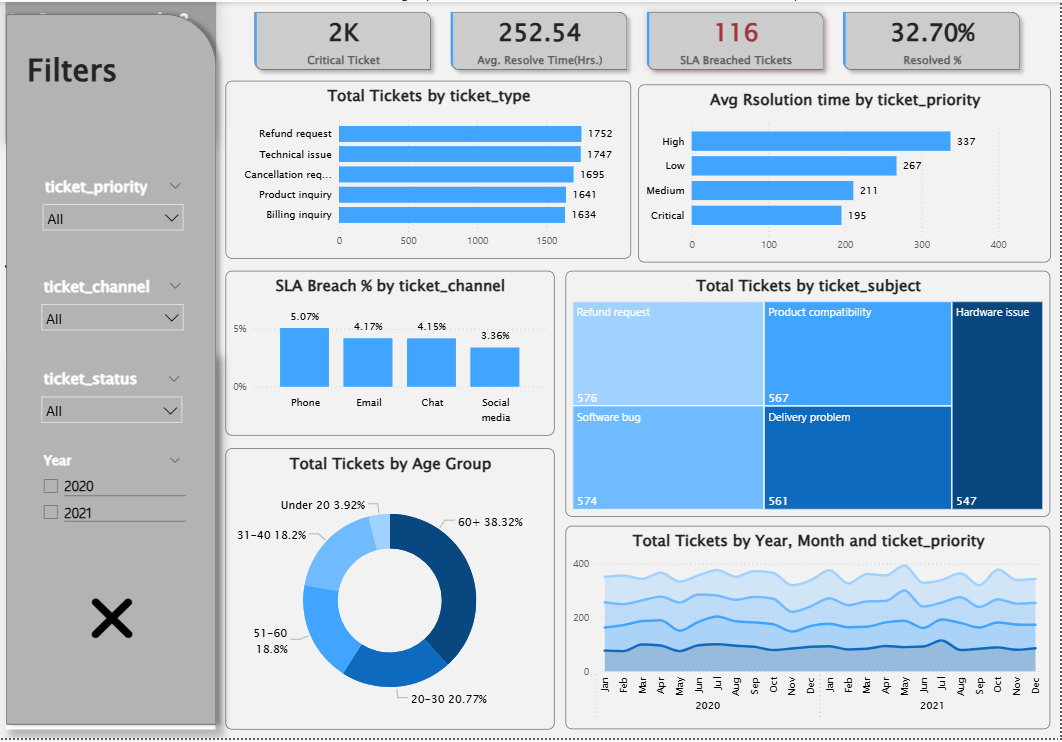

Layout of this report page (visuals, bound fields, positions):
{"tool":"powerbi","page":{"name":"Operational Analytics","canvas":[1300,900],"ordinal":1},"visuals":[{"type":"textbox","box":[8.8,0,257.9,172.9],"z":0},{"type":"cardVisual","fields":{"Data":["Measure_table.Critical Ticket","Measure_table.Avg Rsolution time","Measure_table.SLA Beached Tickets","Measure_table.Resolved %"]},"box":[277.2,0,1010.9,100.5],"z":1000},{"type":"clusteredBarChart","fields":{"Category":["cleaning_customer_support_tickets_v2.ticket_type"],"Y":["Measure_table.Total Tickets"]},"box":[278.5,96.5,495.9,217.4],"z":2000},{"type":"barChart","fields":{"Category":["cleaning_customer_support_tickets_v2.ticket_priority"],"Y":["Measure_table.Avg Rsolution time"]},"box":[782.7,100.7,505,217.8],"z":3000},{"type":"clusteredColumnChart","fields":{"Category":["cleaning_customer_support_tickets_v2.ticket_channel"],"Y":["Measure_table.SLA Breach %"]},"box":[278.2,328.6,402,201.8],"z":4000},{"type":"stackedAreaChart","fields":{"Category":["Date_Table.Year","Date_Table.Month"],"Series":["cleaning_customer_support_tickets_v2.ticket_priority"],"Y":["Measure_table.Total Tickets"]},"box":[694,640.5,593.1,249.2],"z":5000},{"type":"image","box":[7.6,227.8,47.4,42.8],"z":6000},{"type":"donutChart","fields":{"Category":["cleaning_customer_support_tickets_v2.Agr Group"],"Y":["Measure_table.Total Tickets"]},"box":[278.2,545.7,402,343.9],"z":7000},{"type":"treemap","fields":{"Group":["cleaning_customer_support_tickets_v2.ticket_subject"],"Values":["Measure_table.Total Tickets"]},"box":[694,328.6,593.1,301.1],"z":8000},{"type":"textbox","box":[9.2,429.5,256.8,460.1],"z":9000},{"type":"image","box":[7.6,301.1,45.9,44.3],"z":11000},{"type":"textbox","box":[55,227.8,210.9,42.8],"z":12000},{"type":"textbox","box":[55,301.1,210.9,44.3],"z":13000}]}

Visuals, with their boxes on the page's 1300x900 design canvas (x1, y1, x2, y2). These are canvas units, not pixel positions in the 1062x742 screenshot, which may show the page scaled, cropped or inside an application window:
textbox: region(9, 0, 267, 173)
cardVisual - Measure_table.Critical Ticket x Measure_table.Avg Rsolution time: region(277, 0, 1288, 100)
clusteredBarChart - cleaning_customer_support_tickets_v2.ticket_type x Measure_table.Total Tickets: region(278, 96, 774, 314)
barChart - cleaning_customer_support_tickets_v2.ticket_priority x Measure_table.Avg Rsolution time: region(783, 101, 1288, 318)
clusteredColumnChart - cleaning_customer_support_tickets_v2.ticket_channel x Measure_table.SLA Breach %: region(278, 329, 680, 530)
stackedAreaChart - Date_Table.Year x Date_Table.Month: region(694, 640, 1287, 890)
image: region(8, 228, 55, 271)
donutChart - cleaning_customer_support_tickets_v2.Agr Group x Measure_table.Total Tickets: region(278, 546, 680, 890)
treemap - cleaning_customer_support_tickets_v2.ticket_subject x Measure_table.Total Tickets: region(694, 329, 1287, 630)
textbox: region(9, 430, 266, 890)
image: region(8, 301, 54, 345)
textbox: region(55, 228, 266, 271)
textbox: region(55, 301, 266, 345)
